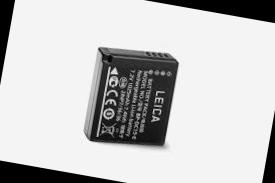battery: (66, 26, 200, 164)
